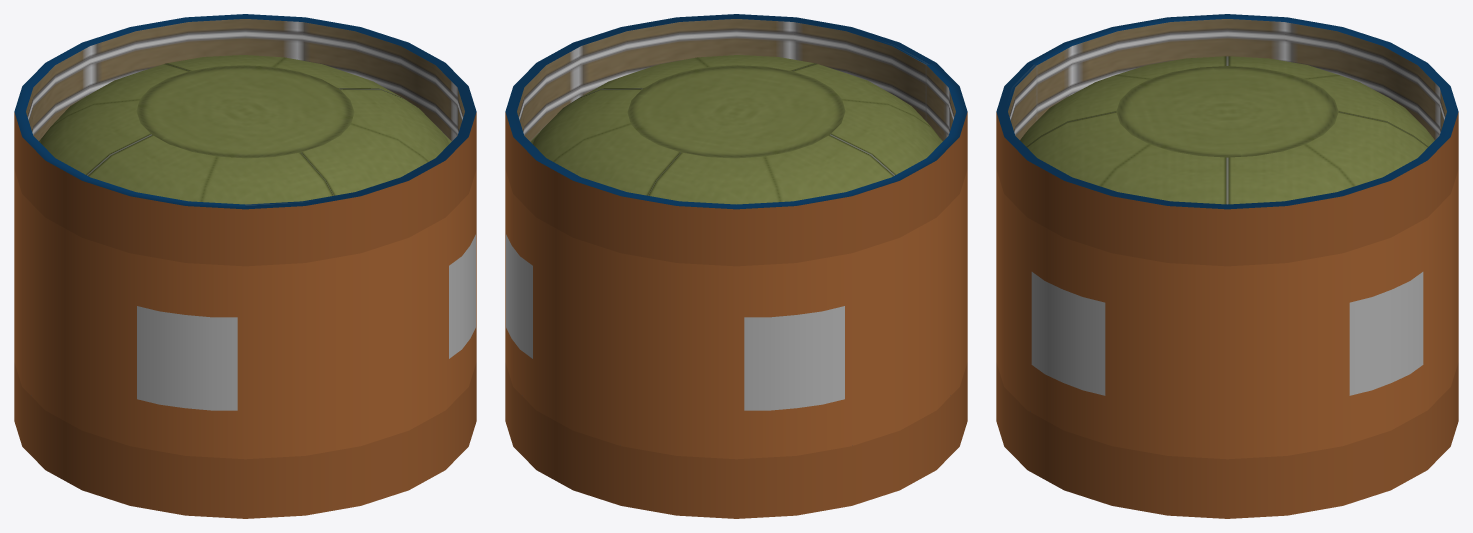
File: FLM-3600M.FBX
3 views of the same model, side by side, from view 1: azimuth 30°, elevation 25°; view 2: azimuth 150°, elevation 25°; view 3: azimuth 270°, elevation 25° (orthographic).
Visible parts, largest first — view 1: TankBody, TankSleeve001, EndCap001, TankSleeve002, decalPanel002, decalPanel001; view 2: TankBody, TankSleeve001, EndCap001, TankSleeve002, decalPanel003, decalPanel004; view 3: TankBody, TankSleeve001, EndCap001, TankSleeve002, decalPanel001, decalPanel004.
Part boxes in pixels (x1,y1,x2,y2): TankBody: (14, 169, 476, 459); TankSleeve001: (14, 14, 476, 266); EndCap001: (39, 55, 451, 204); TankSleeve002: (14, 362, 476, 518); decalPanel002: (137, 306, 237, 410); decalPanel001: (449, 234, 475, 358); TankBody: (505, 169, 967, 459); TankSleeve001: (505, 14, 967, 266); EndCap001: (530, 55, 942, 204); TankSleeve002: (505, 362, 967, 518); decalPanel003: (744, 306, 844, 410); decalPanel004: (506, 234, 532, 358); TankBody: (996, 169, 1458, 459); TankSleeve001: (996, 14, 1458, 266); EndCap001: (1020, 56, 1434, 204); TankSleeve002: (996, 362, 1458, 518); decalPanel001: (1031, 272, 1105, 395); decalPanel004: (1349, 272, 1423, 395).
Size of what is drawn, in the model's own units: 2.5 by 2.5 by 1.85.
